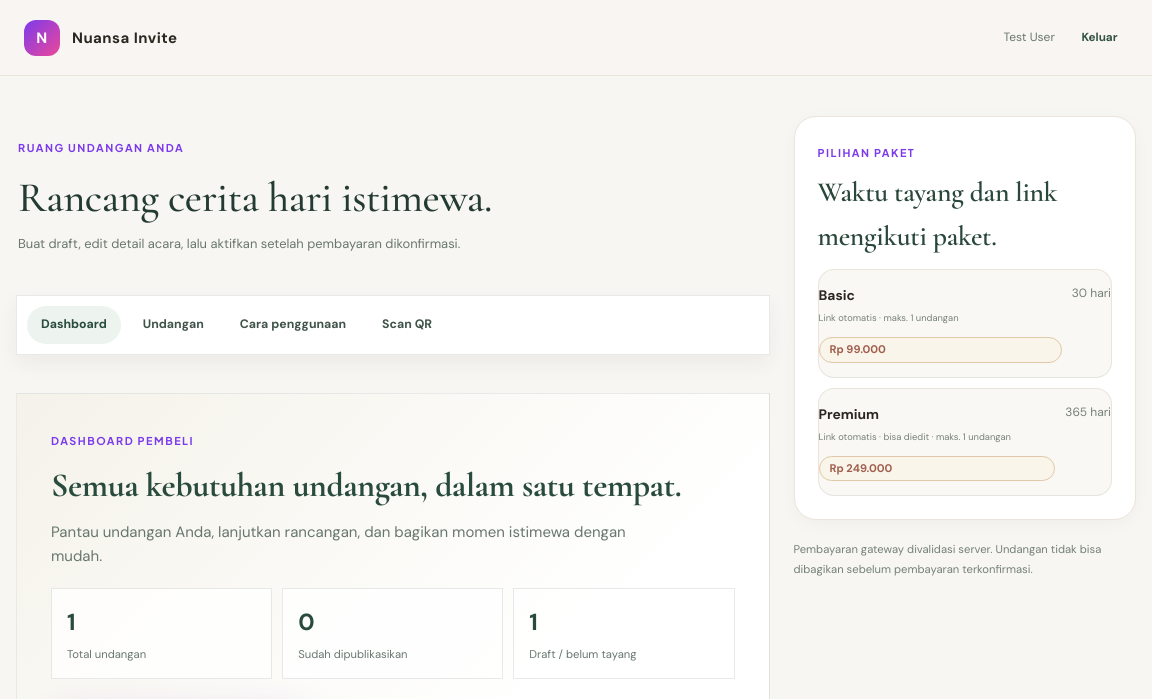
Test: bulk-enabled activation only offers Midtrans
Later steps or results of the test are not shown.
Click the button "Undangan": (173, 325) [129,306,218,344]
(page scrolled)
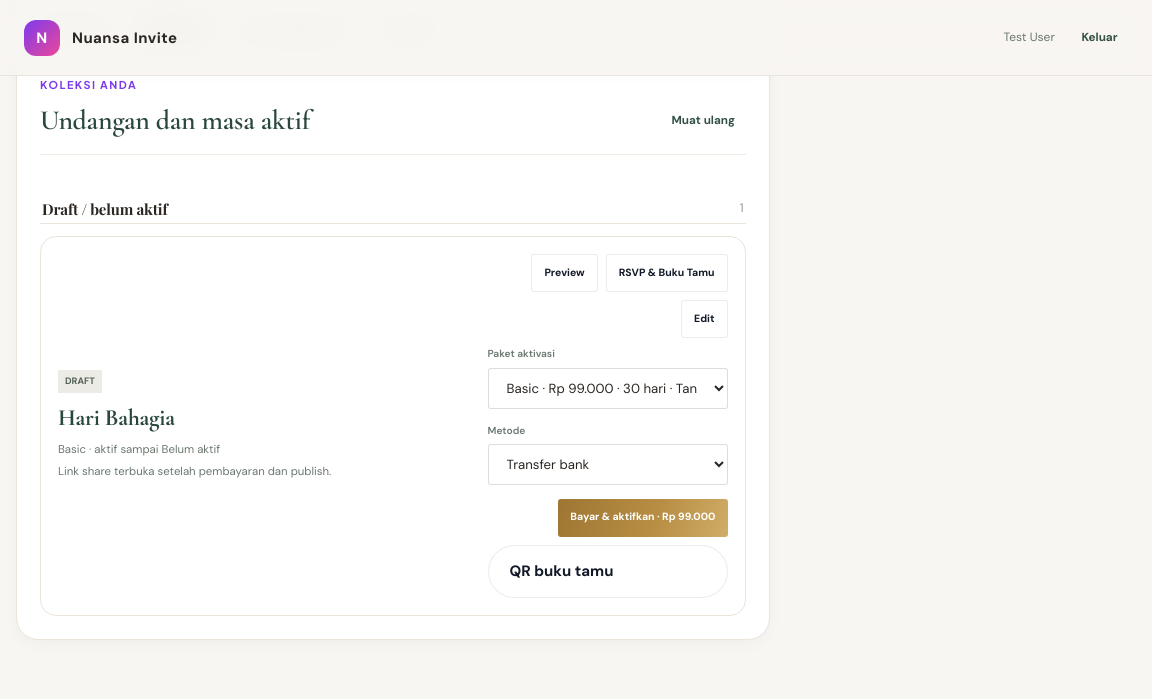
Expected: the dropdown labelled "Paket aktivasi" shows "Basic · Rp 99.000 · 30 hari · Tanpa bulk", [488,368,728,408]
